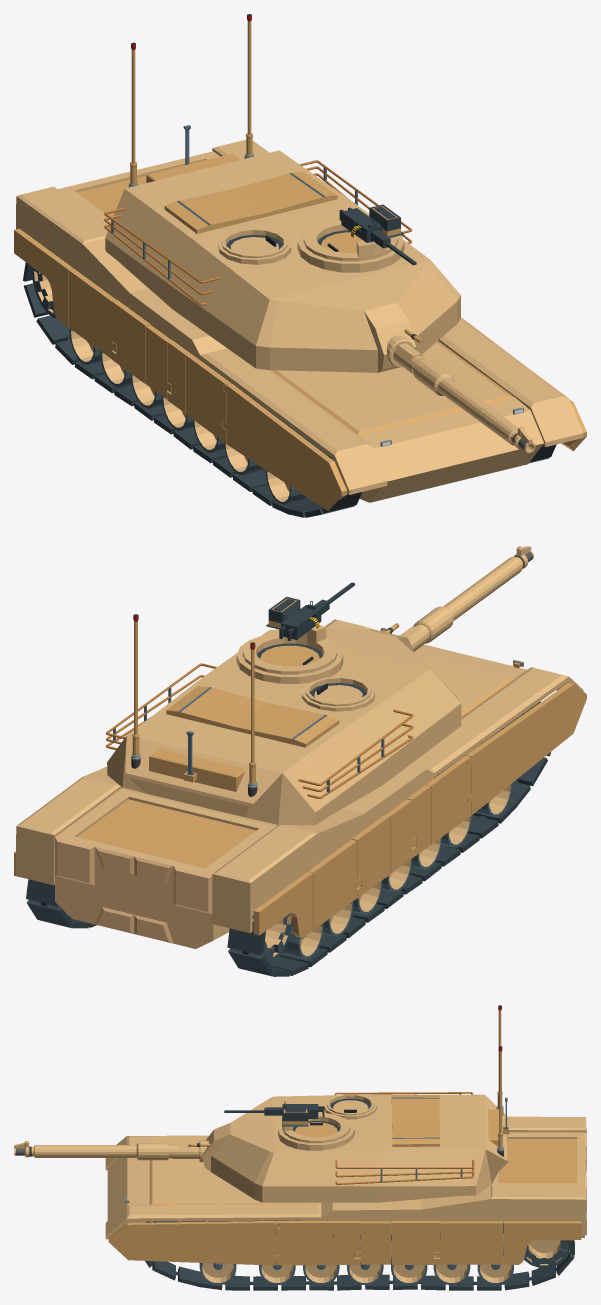
3 views of the same model, one above another, from view 1: azimuth 30°, elevation 25°; view 2: azimuth 150°, elevation 25°; view 3: azimuth 270°, elevation 25° (orthographic). The views are drawn at different scales.
Parts seen in each view (by area): view 1: M1; view 2: M1; view 3: M1.
Boxes of the visible parts, <box> form: M1: <box>14,14,586,517</box>; M1: <box>14,546,586,976</box>; M1: <box>14,1005,586,1290</box>.
Bounding box in the file's own units: 559 × 677 × 1568.
